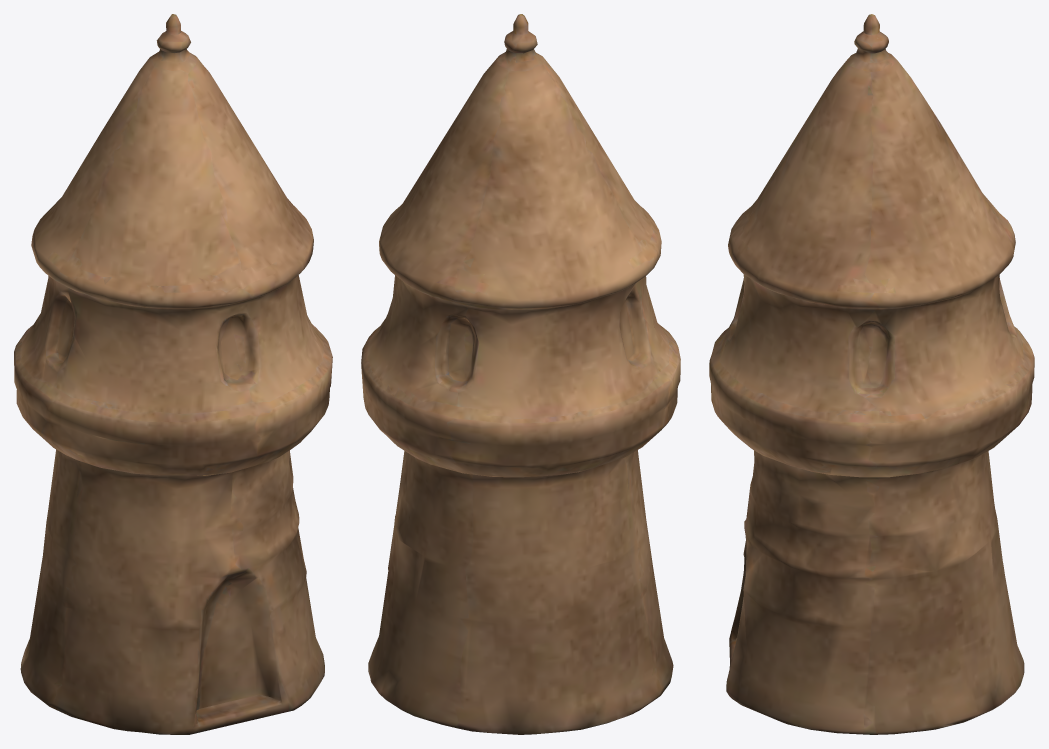
Rendered from simple-sandstone-turret-top-v001.glb.
3 views of the same model, side by side, from view 1: azimuth 30°, elevation 25°; view 2: azimuth 150°, elevation 25°; view 3: azimuth 270°, elevation 25° (orthographic).
Parts seen in each view (by area): view 1: simple-sandstone-turret-top; view 2: simple-sandstone-turret-top; view 3: simple-sandstone-turret-top.
Part boxes in pixels (x1,y1,x2,y2): simple-sandstone-turret-top: (14, 14, 332, 734); simple-sandstone-turret-top: (361, 14, 680, 734); simple-sandstone-turret-top: (709, 14, 1034, 734).
Bounding box in the file's own units: 1.12 × 2.55 × 1.14.
1 material, 1 textured.
